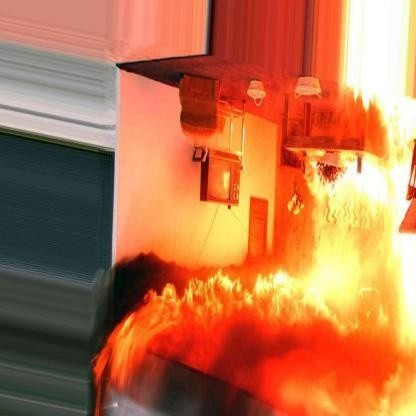fire: (89, 79, 416, 416)
